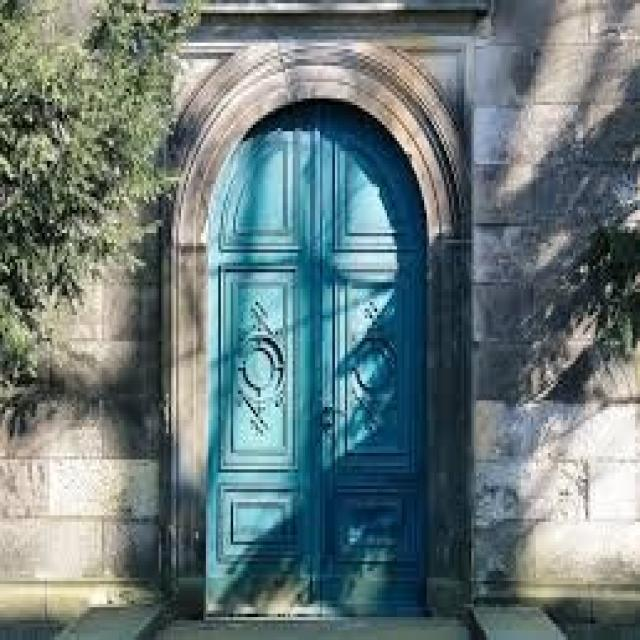door: (204, 102, 429, 620)
